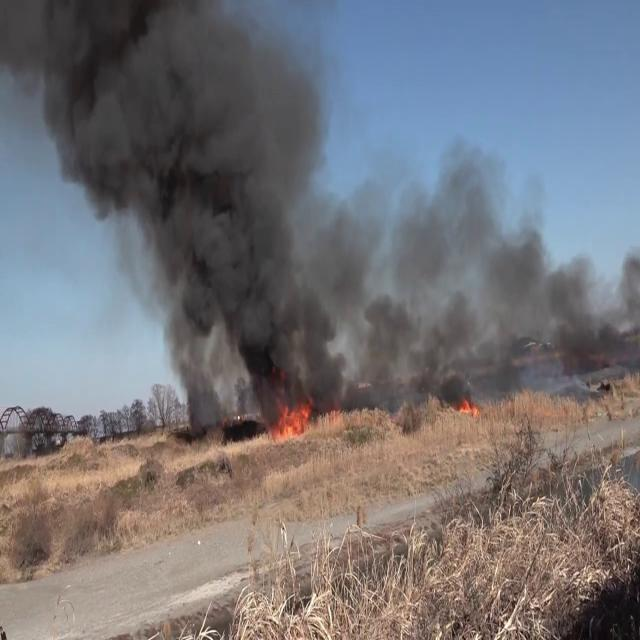Fire: (268, 390, 315, 442), (456, 386, 482, 416)
Smoke: (25, 0, 340, 413), (333, 136, 640, 393)
